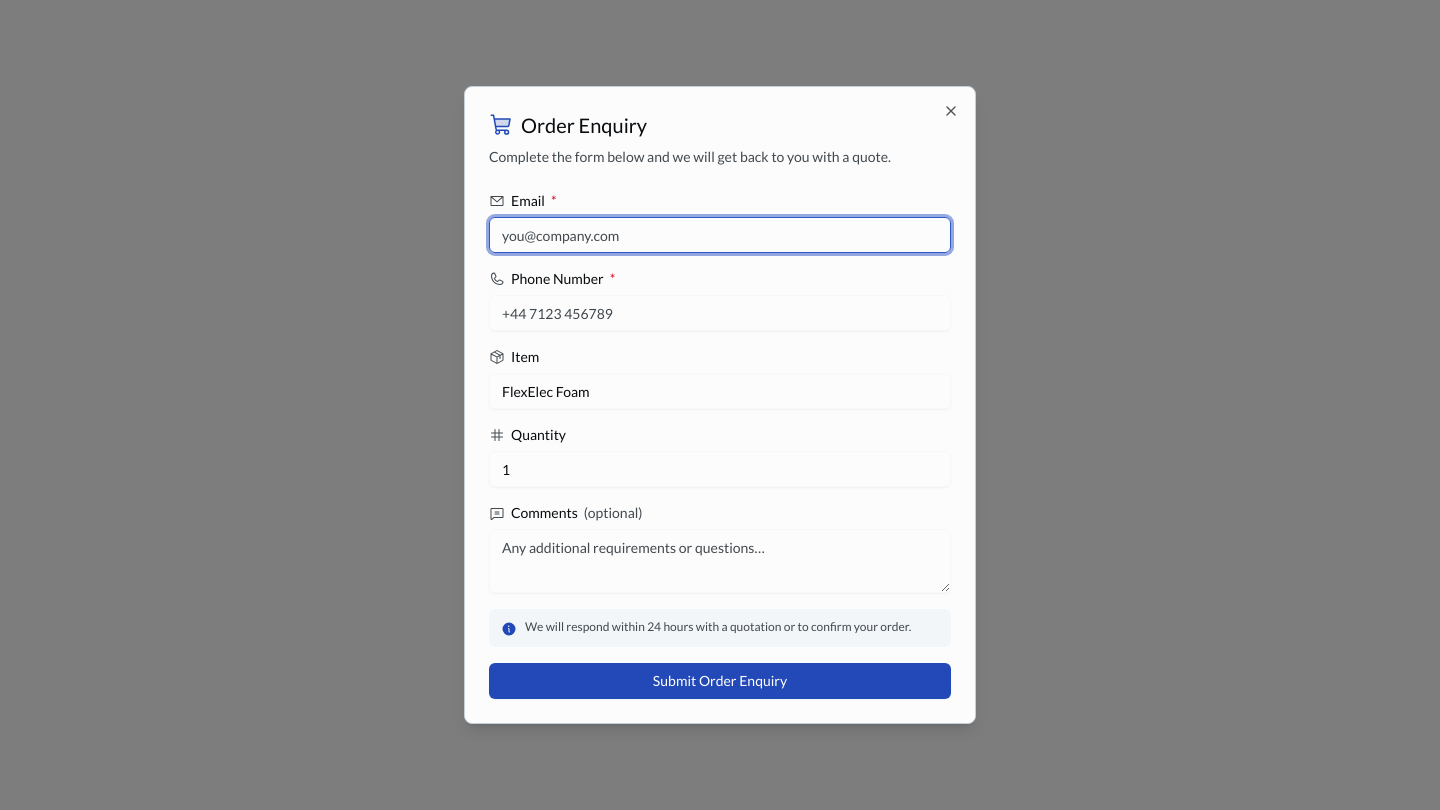
Test: OrderModal › submission › shows success dialog after successful submission
In the field labelled "Email *": (720, 235) x1=489 y1=217 x2=951 y2=253, type "test@example.com"
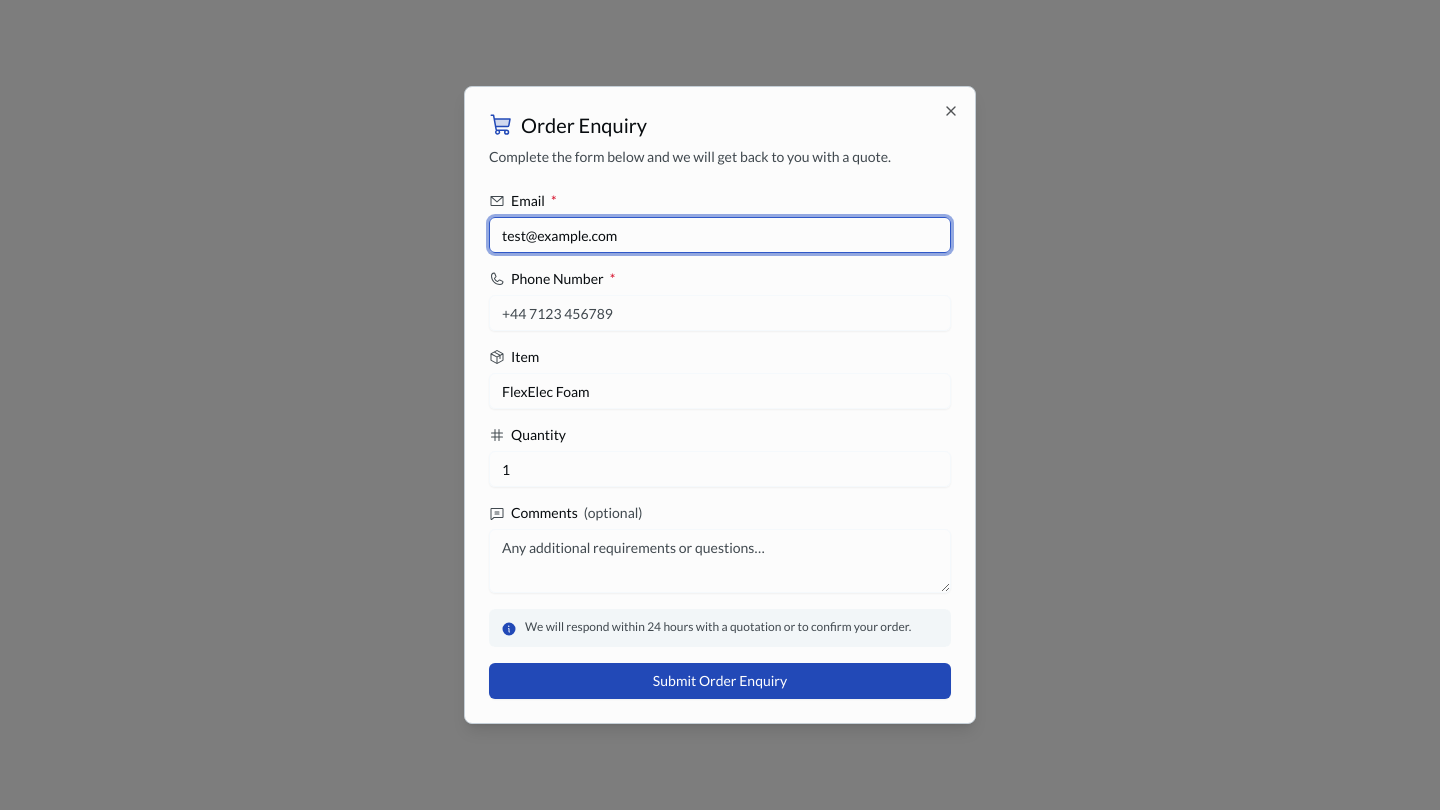
In the field labelled "Phone Number *": (720, 313) x1=489 y1=295 x2=951 y2=331, type "+44123456"
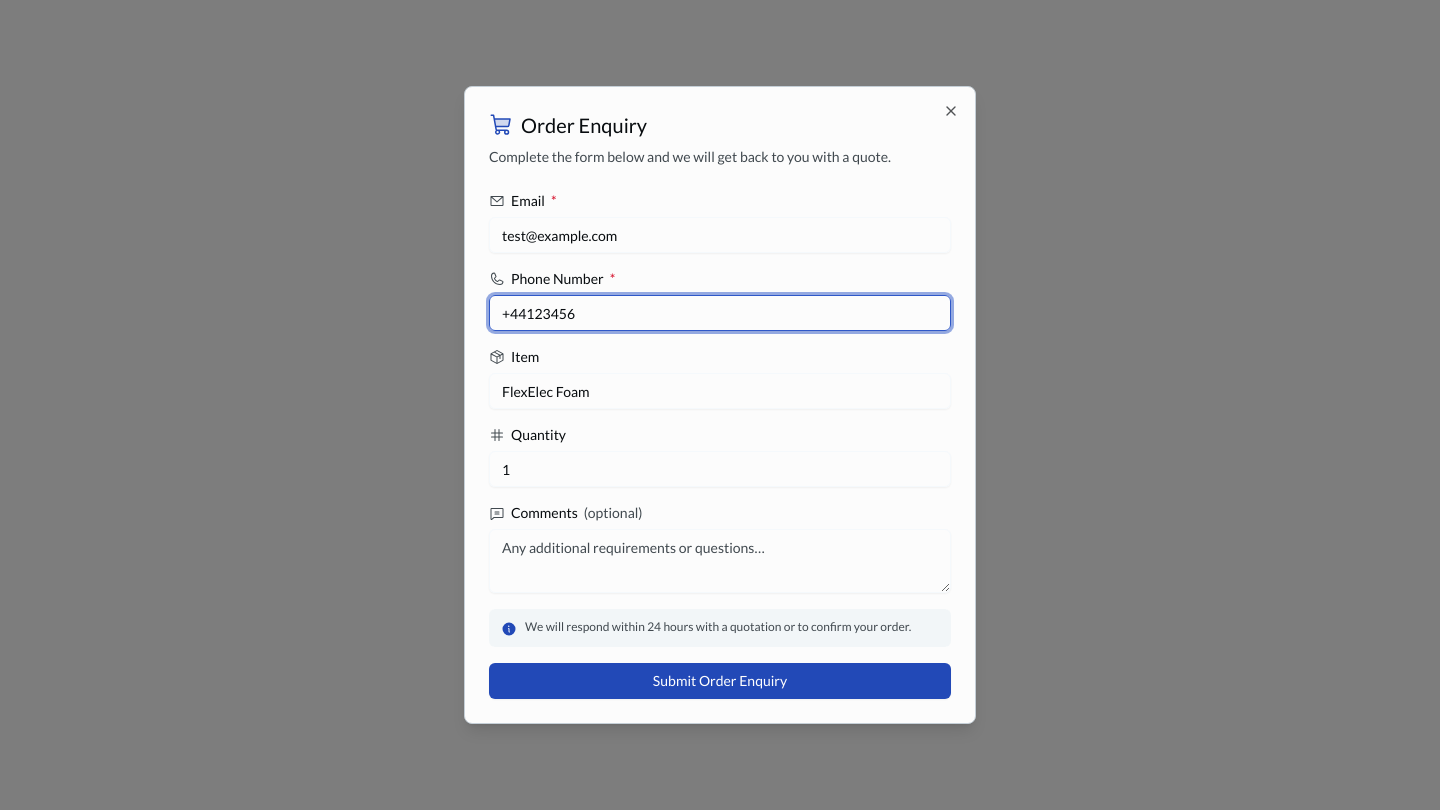
Click the button "Submit Order Enquiry": (720, 681) x1=489 y1=663 x2=951 y2=699
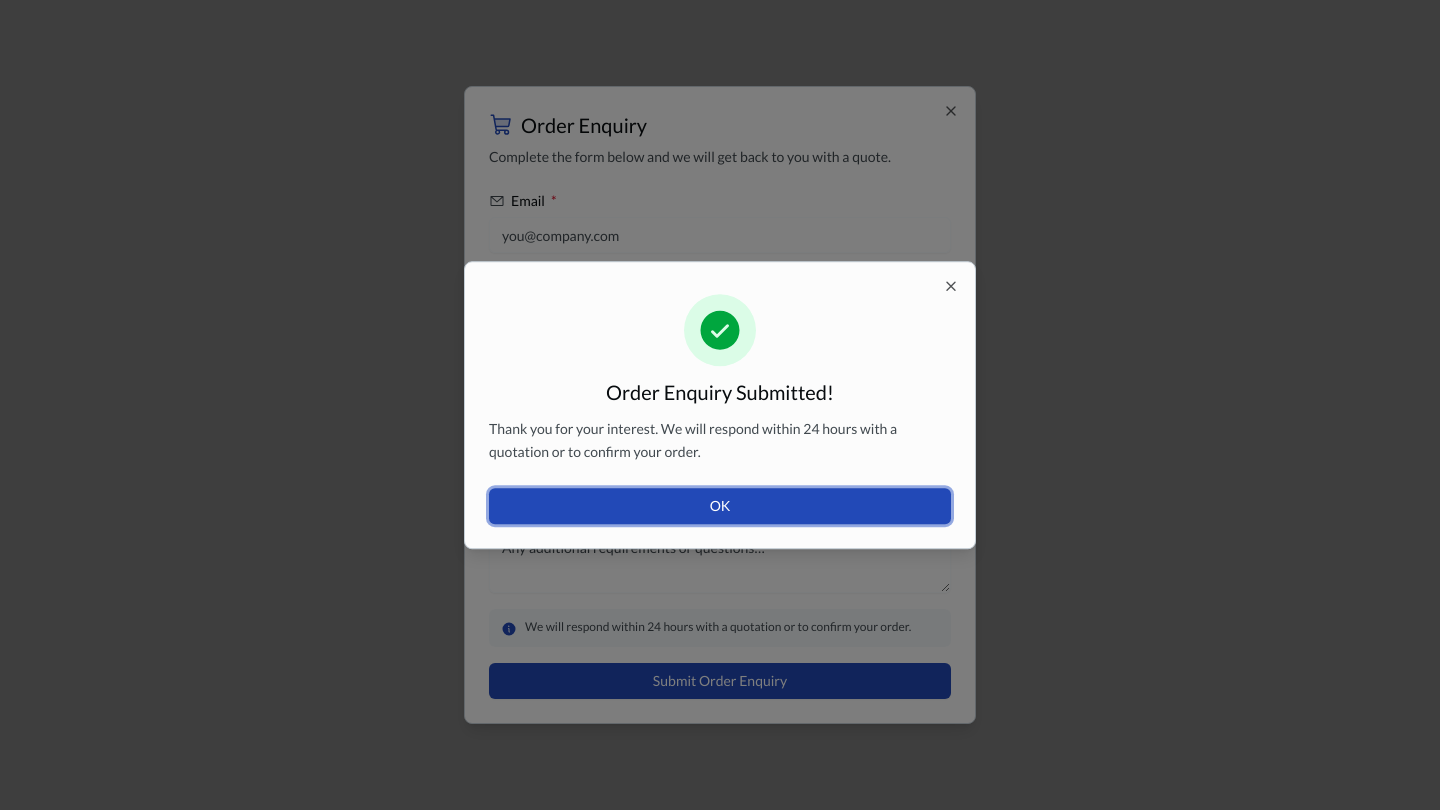
Expected: the heading "Order Enquiry Submitted!" is shown, x1=606 y1=378 x2=834 y2=406
